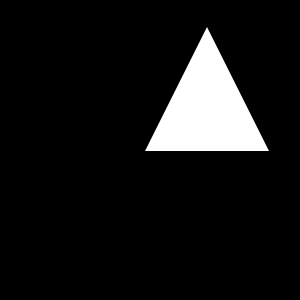triangle: (145, 27, 269, 151)
